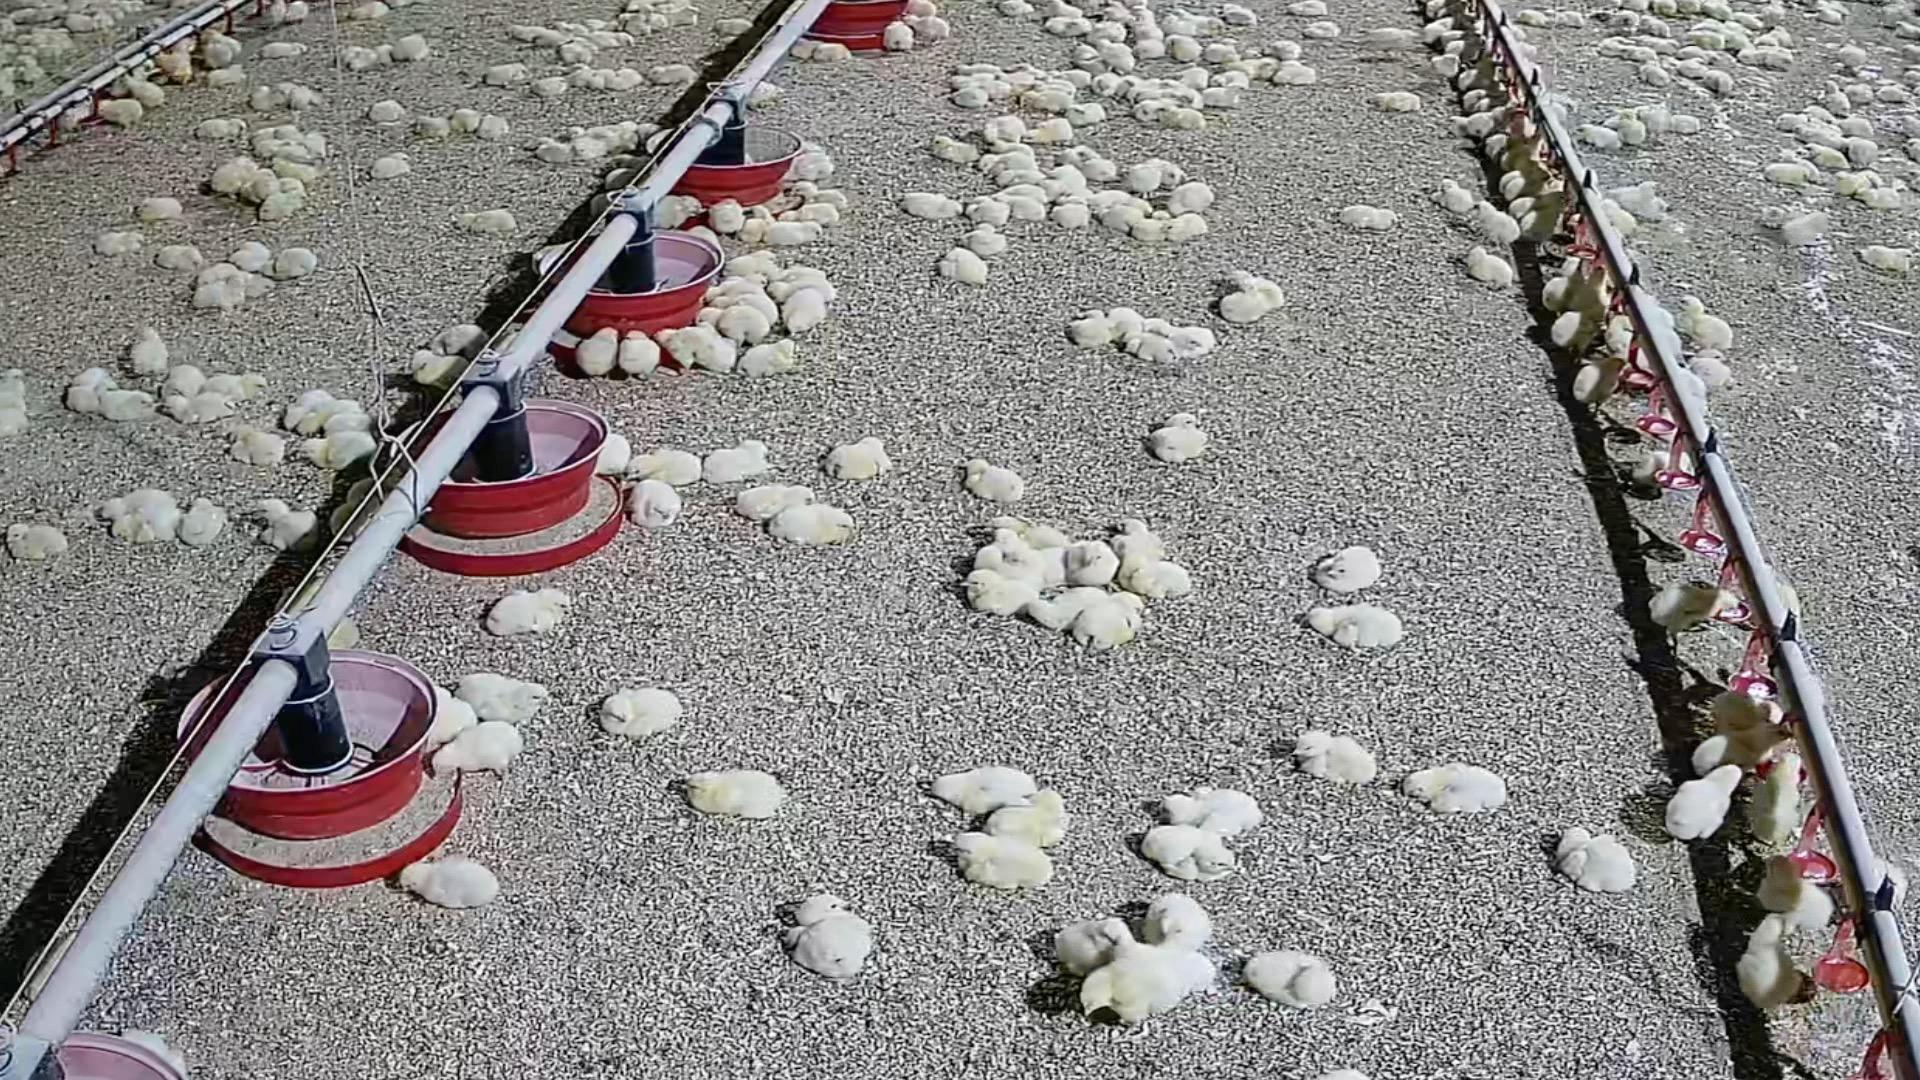poussin: (1077, 952, 1211, 1027), (791, 898, 869, 976), (1665, 764, 1745, 840), (955, 831, 1056, 887), (116, 1011, 199, 1080), (1240, 953, 1337, 1011), (1763, 853, 1837, 927), (458, 673, 550, 731), (1150, 823, 1237, 881), (679, 770, 785, 818), (930, 767, 1033, 815), (1742, 914, 1792, 1010), (1753, 752, 1803, 847), (1556, 829, 1633, 891), (434, 727, 521, 781), (1648, 582, 1739, 632), (1407, 766, 1506, 811), (400, 861, 495, 907), (1167, 790, 1262, 835), (1298, 728, 1374, 782), (1303, 604, 1400, 646), (988, 790, 1064, 843), (487, 585, 571, 633), (603, 690, 679, 741), (100, 492, 181, 541), (1695, 732, 1789, 773), (302, 418, 377, 468), (1056, 918, 1127, 968), (1030, 585, 1104, 633), (1146, 897, 1213, 948), (1080, 596, 1142, 651), (252, 502, 319, 551), (960, 568, 1035, 612), (1063, 541, 1126, 589), (1150, 413, 1209, 463), (825, 436, 891, 481), (775, 509, 851, 547), (1683, 294, 1733, 351), (732, 488, 816, 521), (1317, 546, 1379, 591), (332, 479, 377, 539), (963, 458, 1025, 501), (223, 423, 289, 464), (1109, 517, 1168, 562), (1553, 303, 1610, 349), (1714, 691, 1780, 731), (978, 545, 1042, 585), (986, 513, 1063, 546), (629, 448, 702, 483), (1125, 560, 1192, 597), (5, 522, 70, 560), (704, 442, 766, 481), (1542, 257, 1584, 315), (738, 336, 798, 377), (1573, 356, 1627, 401), (771, 269, 835, 307), (625, 483, 680, 526), (695, 309, 767, 342), (1619, 181, 1672, 224), (429, 686, 469, 741), (1009, 551, 1075, 585), (162, 393, 235, 423), (0, 369, 32, 436), (782, 287, 825, 336), (1466, 247, 1518, 287), (1631, 451, 1695, 484), (703, 281, 774, 310), (1461, 102, 1519, 137), (181, 496, 223, 545), (576, 327, 618, 376), (411, 352, 471, 386), (1234, 272, 1286, 311), (1476, 199, 1520, 244), (1692, 344, 1734, 392), (298, 402, 364, 433), (712, 294, 778, 324), (621, 330, 662, 378), (280, 389, 332, 426), (204, 372, 274, 400), (1494, 138, 1548, 174), (129, 328, 170, 375), (430, 324, 495, 353), (936, 247, 985, 285), (1485, 120, 1531, 160), (684, 331, 732, 369), (1572, 266, 1606, 319), (1212, 293, 1270, 323), (1109, 306, 1172, 334), (1518, 210, 1573, 241), (100, 389, 158, 418), (161, 46, 202, 87), (653, 198, 699, 233), (786, 150, 835, 183), (160, 359, 203, 396), (262, 248, 315, 278), (899, 191, 960, 218), (281, 128, 331, 160), (1168, 181, 1216, 214), (1458, 58, 1506, 91), (212, 156, 255, 193), (63, 384, 112, 415), (456, 208, 521, 232), (194, 276, 244, 306), (1853, 247, 1916, 270), (764, 220, 820, 247), (1069, 313, 1114, 345), (95, 99, 148, 127), (1120, 334, 1175, 360), (1338, 207, 1396, 232), (1510, 193, 1575, 215), (1089, 191, 1158, 212), (1597, 202, 1639, 236), (1507, 175, 1564, 200), (1365, 30, 1422, 55), (1763, 166, 1820, 191), (658, 327, 696, 364), (1785, 212, 1826, 247), (901, 13, 951, 41), (996, 194, 1047, 220), (781, 204, 840, 227), (596, 435, 629, 475), (1027, 117, 1072, 146), (204, 29, 245, 61), (790, 182, 847, 204), (269, 160, 319, 185), (725, 252, 778, 276), (742, 204, 774, 244), (1162, 80, 1209, 107), (1171, 331, 1218, 357), (127, 74, 167, 104), (1578, 125, 1625, 152), (1803, 145, 1849, 171), (1495, 170, 1556, 190), (1854, 182, 1902, 207), (228, 241, 269, 270), (967, 227, 1007, 256), (396, 32, 430, 66), (570, 124, 605, 157), (1077, 146, 1113, 179), (1054, 194, 1089, 227), (965, 195, 1007, 223), (1460, 84, 1502, 112), (258, 194, 297, 224), (1127, 164, 1162, 196), (71, 365, 119, 389), (328, 616, 357, 654), (932, 137, 978, 161), (1797, 124, 1844, 148), (1159, 212, 1208, 235), (1276, 62, 1317, 88), (1451, 36, 1491, 62), (1022, 94, 1076, 113), (1043, 167, 1088, 191), (1201, 86, 1246, 109), (646, 65, 696, 86), (1371, 91, 1422, 112), (369, 154, 409, 181), (984, 116, 1023, 142), (244, 170, 278, 200), (248, 124, 294, 146), (712, 198, 741, 233), (96, 232, 145, 253), (530, 138, 571, 164), (1146, 157, 1183, 185), (207, 65, 245, 91), (336, 45, 375, 71), (1172, 7, 1215, 30), (1429, 53, 1461, 84), (1101, 41, 1134, 71), (199, 41, 235, 69), (981, 156, 1034, 174), (1234, 59, 1275, 83), (1639, 105, 1669, 137), (605, 167, 644, 193), (1619, 111, 1644, 149), (1439, 182, 1473, 210), (666, 4, 703, 29), (1171, 33, 1203, 62), (1822, 79, 1851, 111), (1847, 140, 1879, 169), (1316, 1064, 1374, 1080), (607, 65, 647, 87), (156, 247, 202, 266), (137, 199, 183, 219), (1840, 37, 1866, 71), (1204, 37, 1240, 62), (1102, 211, 1145, 232), (1159, 108, 1204, 128), (1424, 18, 1464, 41), (1519, 8, 1559, 30), (196, 258, 233, 282), (1001, 181, 1048, 199), (1068, 104, 1105, 128), (1221, 4, 1258, 28), (488, 63, 529, 84), (1129, 222, 1172, 241), (1436, 28, 1474, 50), (289, 84, 320, 111), (538, 24, 575, 46), (476, 115, 510, 138), (347, 3, 388, 22), (1841, 115, 1874, 138), (592, 30, 634, 49), (530, 76, 575, 94), (811, 44, 856, 61), (231, 272, 272, 290), (414, 119, 455, 137), (255, 45, 306, 59), (1212, 73, 1255, 90), (373, 100, 406, 123), (1640, 65, 1673, 87), (1698, 0, 1731, 22), (1303, 20, 1340, 40), (280, 178, 310, 202), (1702, 73, 1734, 95), (1639, 16, 1671, 38), (516, 24, 551, 44), (745, 83, 781, 103), (889, 21, 914, 49), (1680, 33, 1717, 51), (615, 117, 637, 148), (198, 119, 244, 133), (255, 142, 301, 157), (451, 109, 483, 131), (1812, 7, 1844, 28), (1846, 84, 1884, 102), (264, 0, 286, 29), (1876, 83, 1905, 105), (785, 40, 819, 58), (898, 0, 935, 17), (1130, 22, 1164, 41), (1046, 21, 1089, 36), (252, 84, 277, 109), (997, 173, 1044, 186), (956, 88, 988, 108), (1266, 41, 1305, 57), (1647, 40, 1687, 55), (951, 75, 997, 88), (997, 3, 1035, 18), (1043, 3, 1081, 18), (1095, 73, 1120, 96), (1804, 107, 1838, 124), (1768, 49, 1797, 69), (287, 0, 311, 24), (984, 144, 1036, 154), (1776, 113, 1811, 129), (1139, 40, 1164, 61), (1833, 174, 1858, 195), (1695, 21, 1730, 36), (1619, 47, 1658, 61), (375, 45, 396, 69), (1760, 1, 1782, 25), (1131, 103, 1160, 120), (975, 82, 1011, 95), (1775, 28, 1799, 47), (1683, 61, 1709, 78), (1601, 36, 1621, 58), (1553, 13, 1586, 26), (1742, 50, 1767, 66), (1072, 44, 1096, 59)
